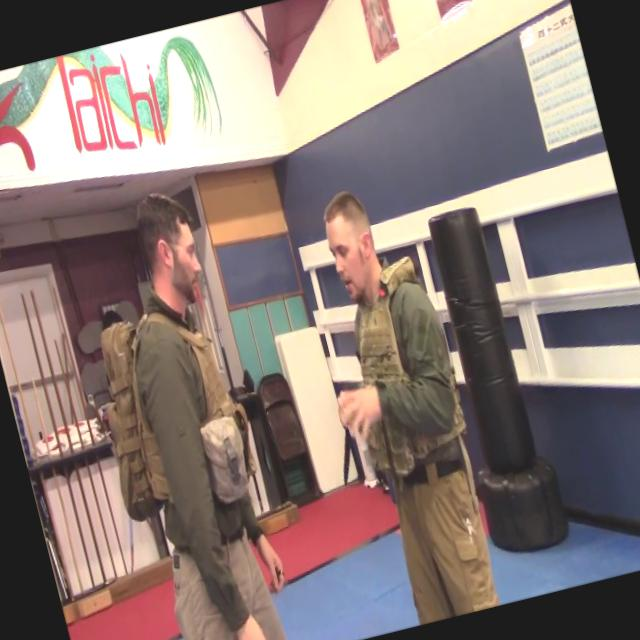knife: (322, 418, 368, 499)
